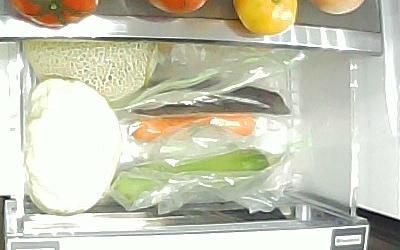cabbage: (26, 78, 123, 216)
carrot_vinyl: (129, 112, 257, 143)
eggplant_vinyl: (131, 85, 292, 115)
melon: (22, 40, 157, 102)
zucchini_vinyl: (114, 148, 287, 210)
